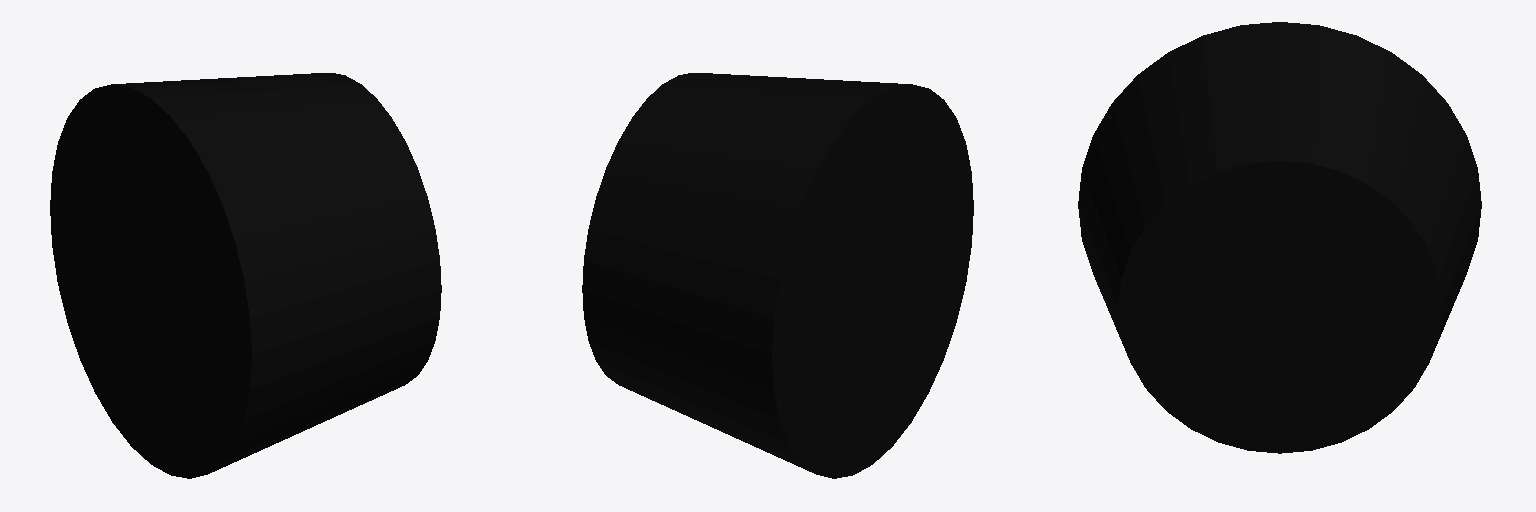
Rendered from Micro_Focusing.obj.
3 views of the same model, side by side, from view 1: azimuth 30°, elevation 25°; view 2: azimuth 150°, elevation 25°; view 3: azimuth 270°, elevation 25° (orthographic).
Parts seen in each view (by area): view 1: Cylinder; view 2: Cylinder; view 3: Cylinder.
Part boxes in pixels (bbox=[...]): Cylinder: bbox=[50, 73, 441, 478]; Cylinder: bbox=[582, 73, 973, 478]; Cylinder: bbox=[1078, 22, 1481, 453].
Bounding box in the file's own units: 1.2 × 2 × 2.